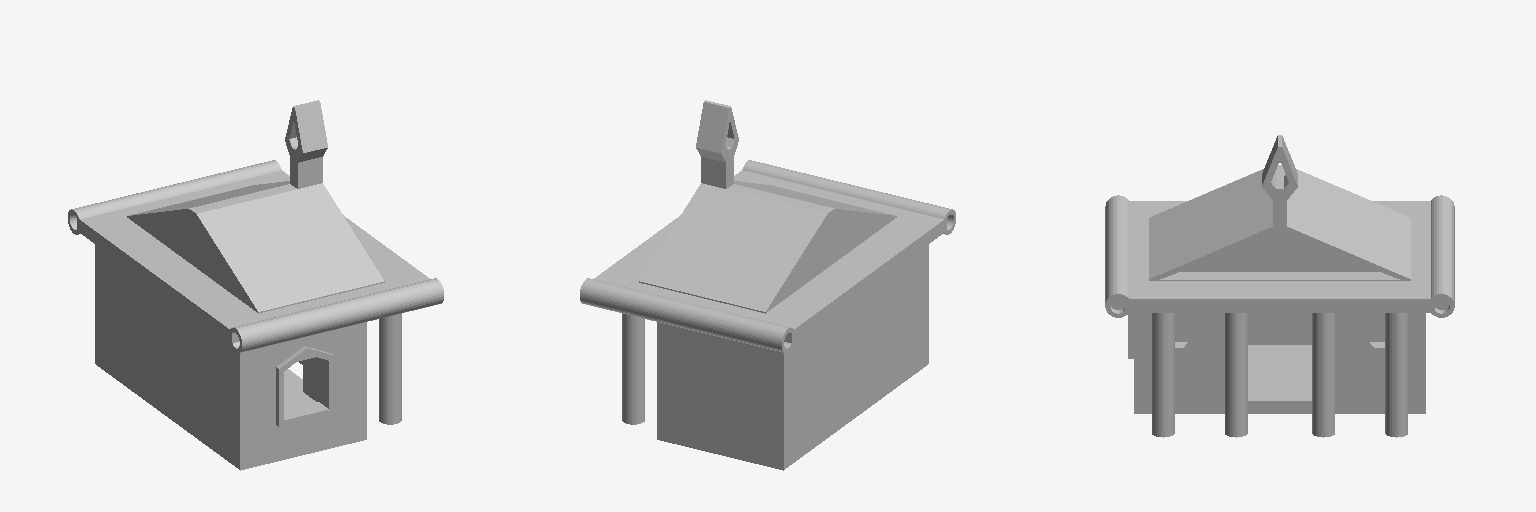
File: tetej2.obj
3 views of the same model, side by side, from view 1: azimuth 30°, elevation 25°; view 2: azimuth 150°, elevation 25°; view 3: azimuth 270°, elevation 25° (orthographic).
Parts seen in each view (by area): view 1: tetej_Cube.007; view 2: tetej_Cube.007; view 3: tetej_Cube.007.
Boxes of the visible parts, x1=… form: tetej_Cube.007: x1=68, y1=100, x2=443, y2=470; tetej_Cube.007: x1=580, y1=100, x2=955, y2=470; tetej_Cube.007: x1=1105, y1=135, x2=1454, y2=437.
Size of the model in its own units: 8 by 10.55 by 11.97.